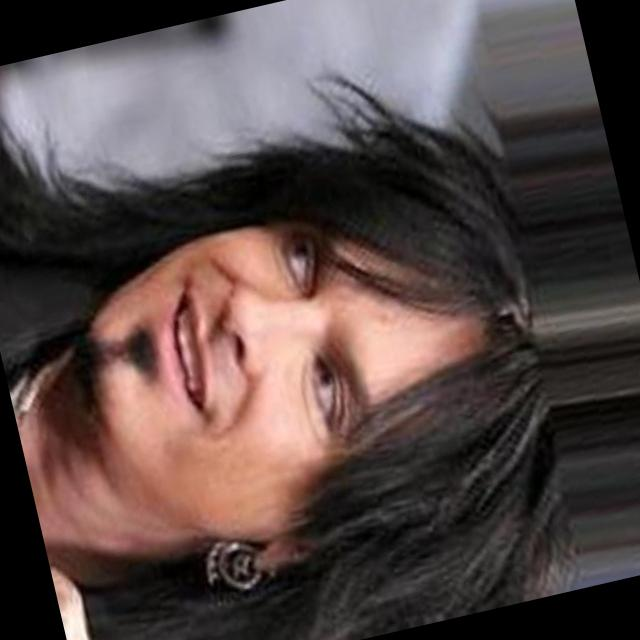bareface: (68, 173, 578, 640)
